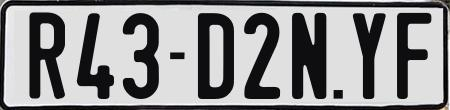2: (243, 12, 281, 98)
3: (120, 13, 161, 104)
4: (76, 13, 117, 103)
D: (196, 11, 235, 101)
F: (394, 13, 433, 104)
N: (292, 11, 331, 99)
R: (29, 11, 65, 101)
Y: (353, 12, 390, 103)
